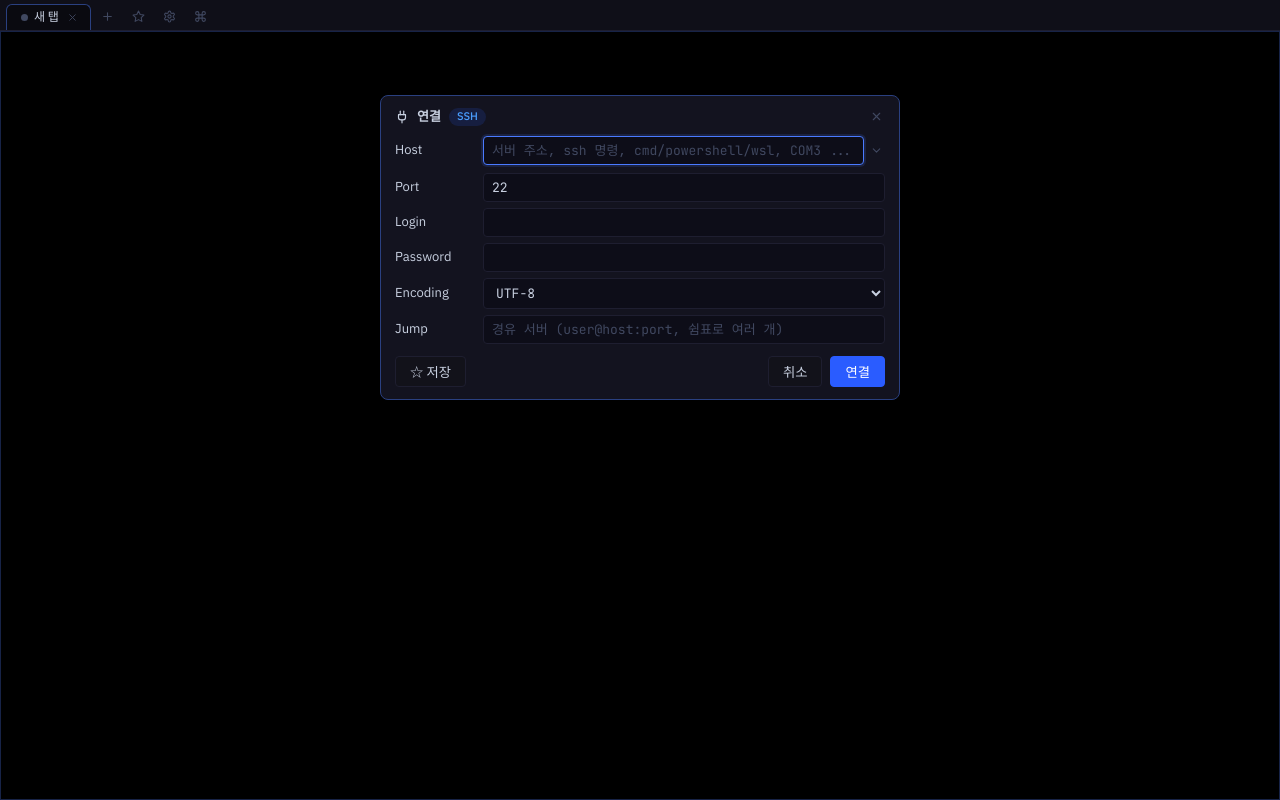
Test: 원격 파일 창 (RFV) › RFV-05: 여러 개(Ctrl+클릭) 다운로드 → 폴더 골라 저장
This screenshot has width=1280, height=800.
Type "srv" into the field labelled "Host" at (674, 150), box x1=483 y1=136 x2=864 y2=165
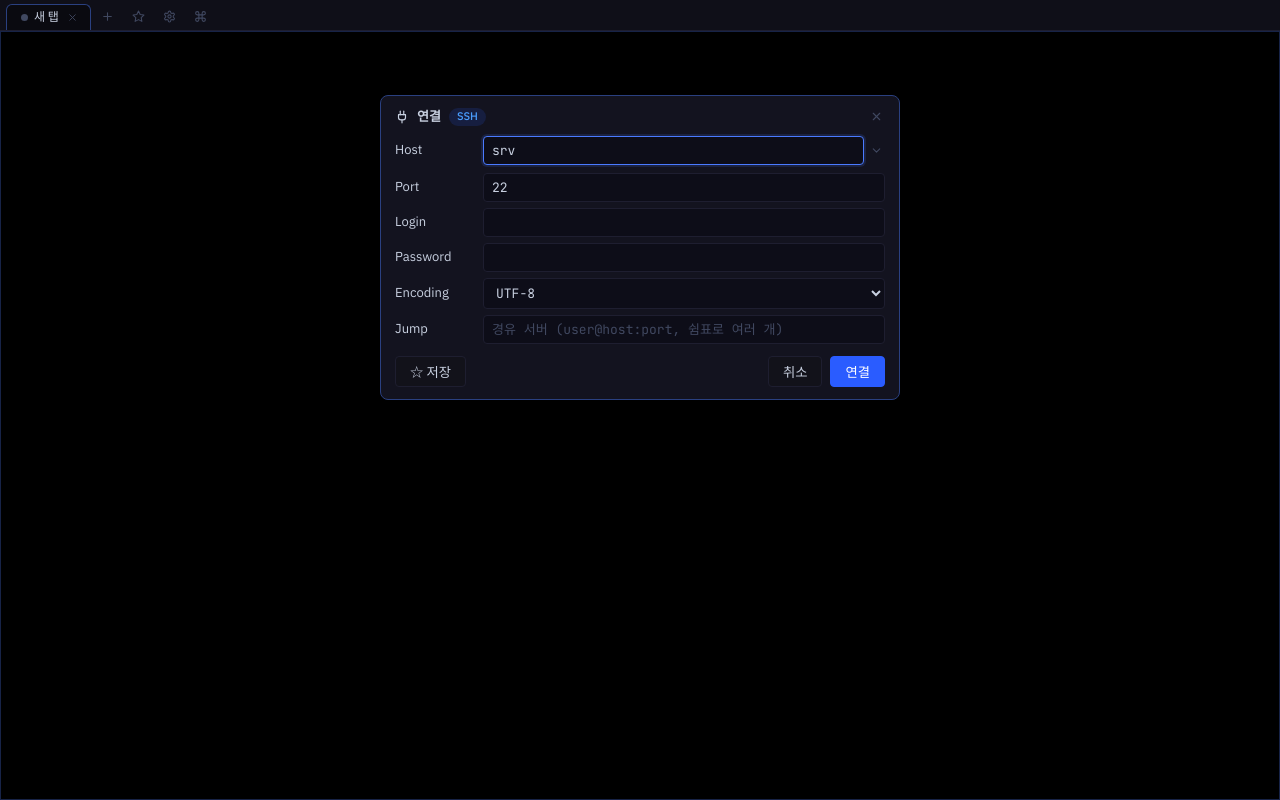
Submit the form labelled "Host", box x1=380 y1=95 x2=900 y2=400
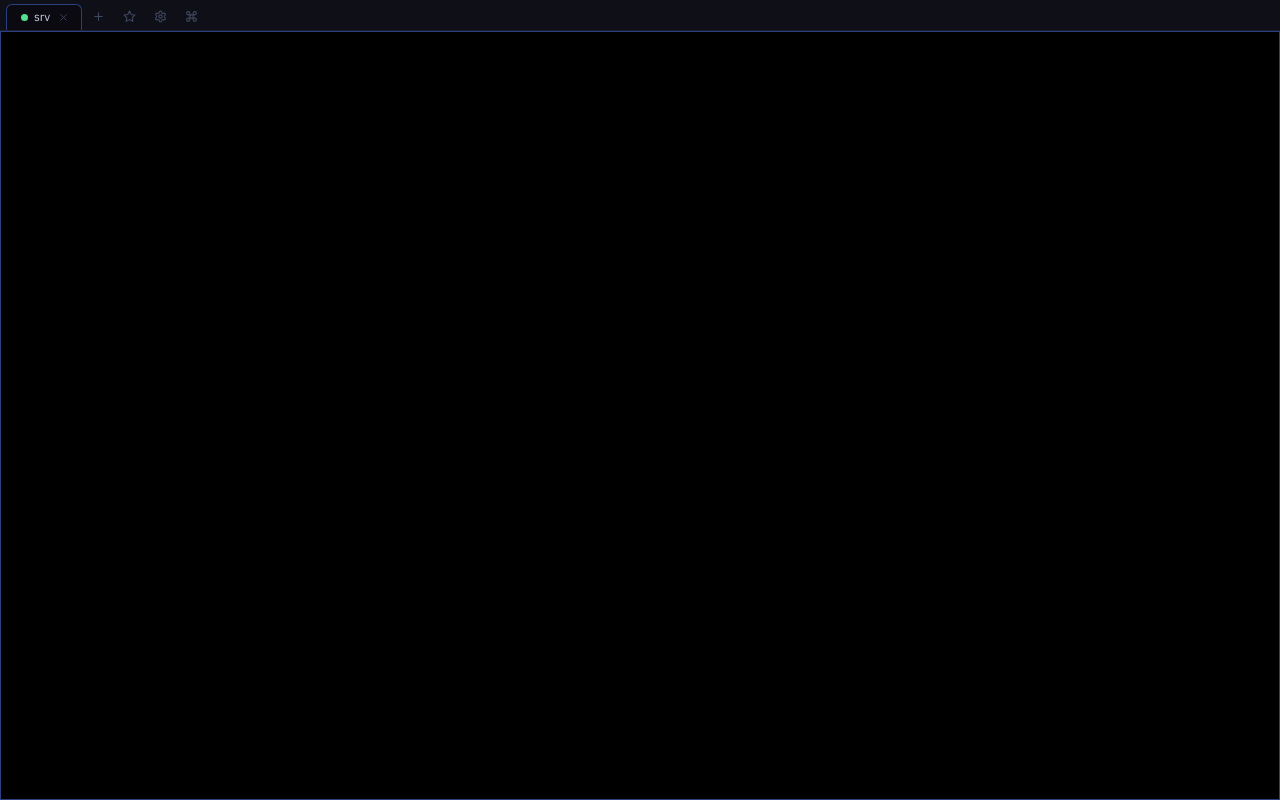
Expected: the label labelled "Host" is gone
Press F in the element showing "srv"
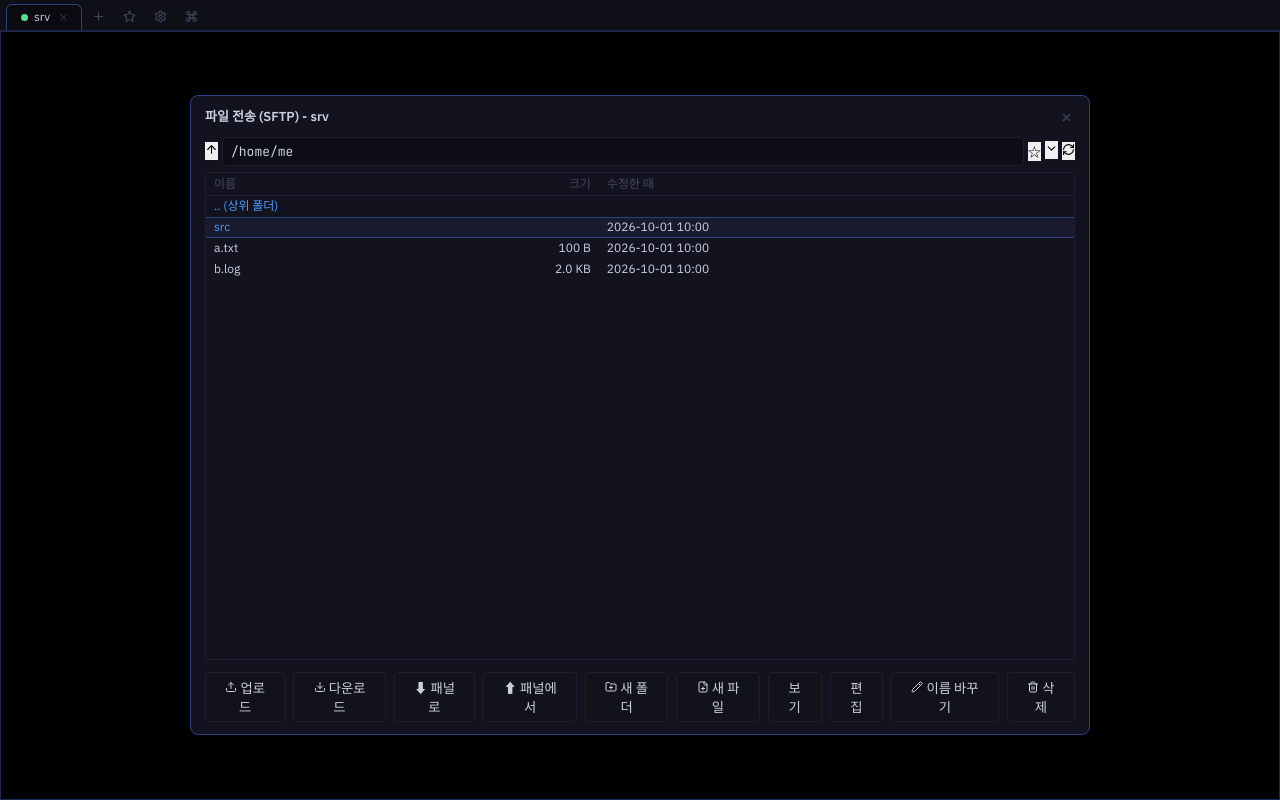
Press the mouse on the row "a.txt 100 B 2026-10-01 10:00" at (640, 248), box x1=206 y1=238 x2=1074 y2=259
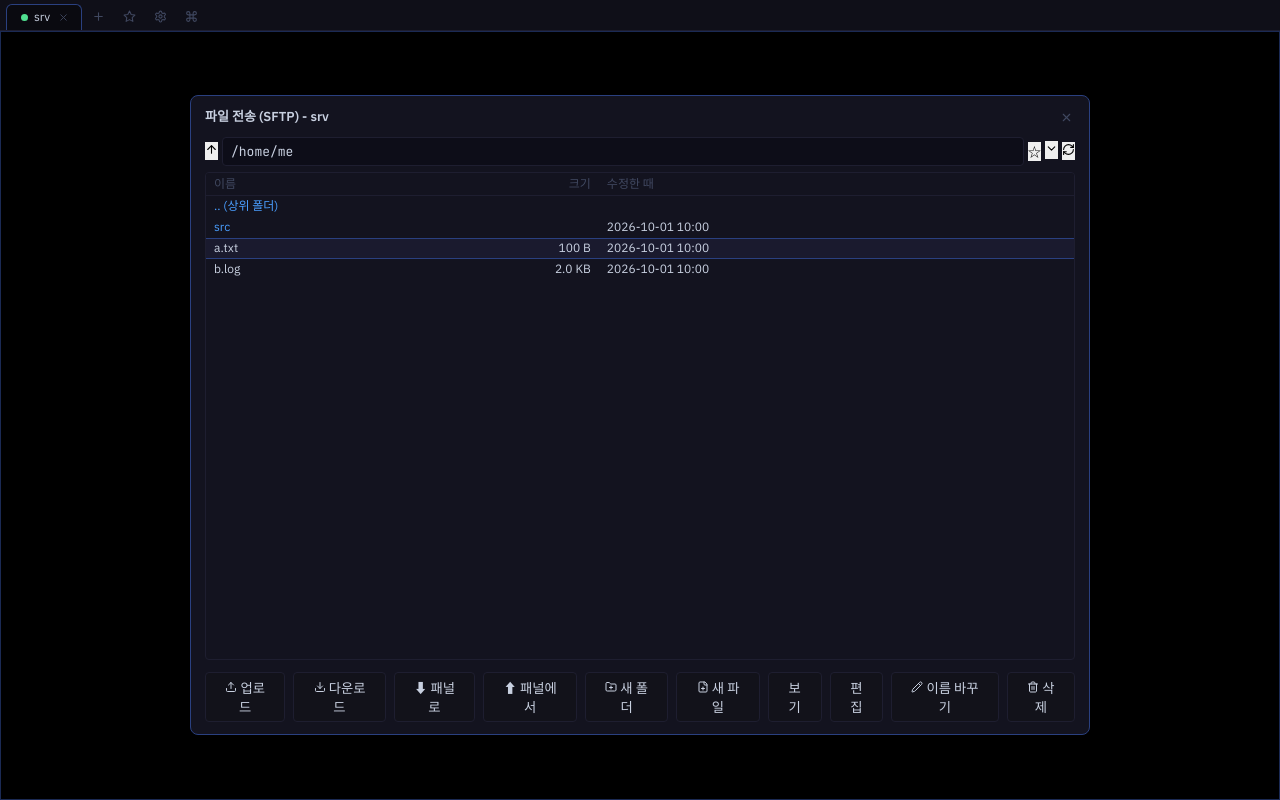
Press the mouse on the row "b.log 2.0 KB 2026-10-01 10:00" at (640, 269), box x1=206 y1=259 x2=1074 y2=280
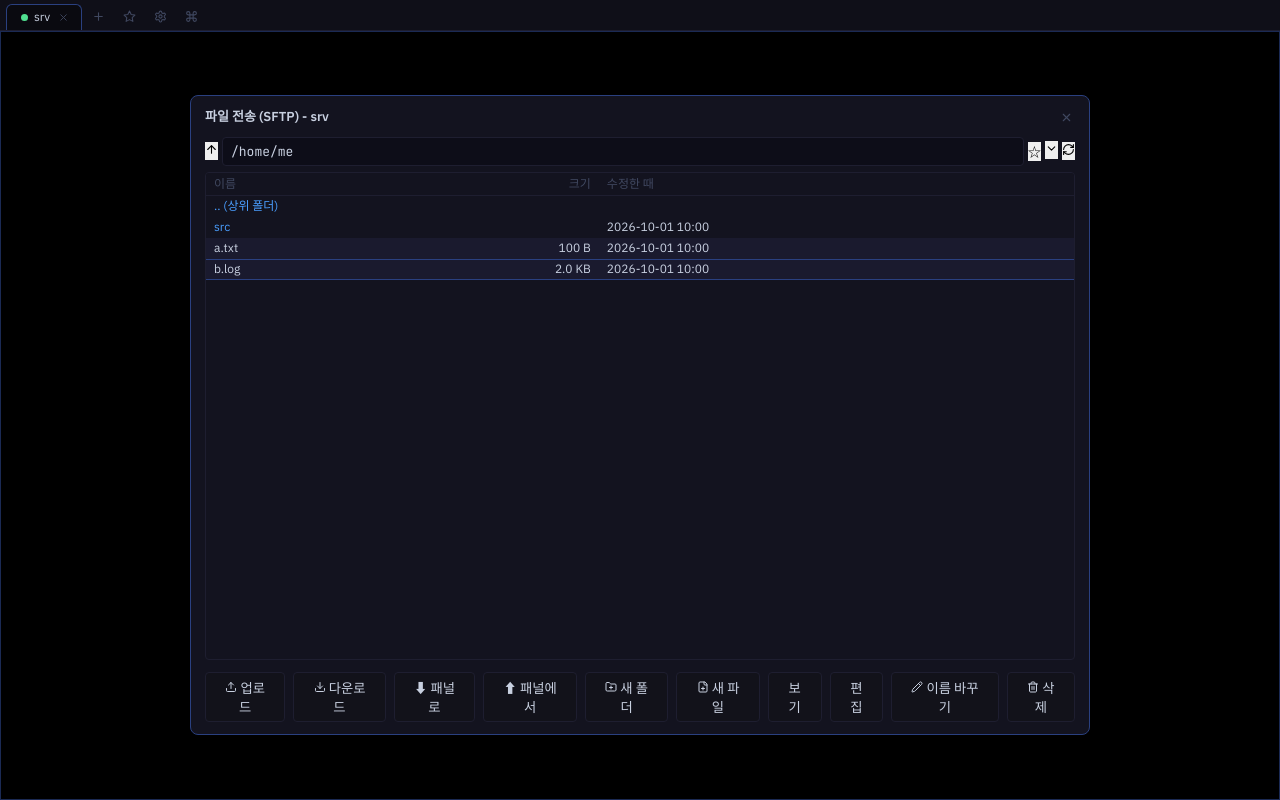
Click the button "다운로드" at (340, 697), box x1=293 y1=672 x2=386 y2=722
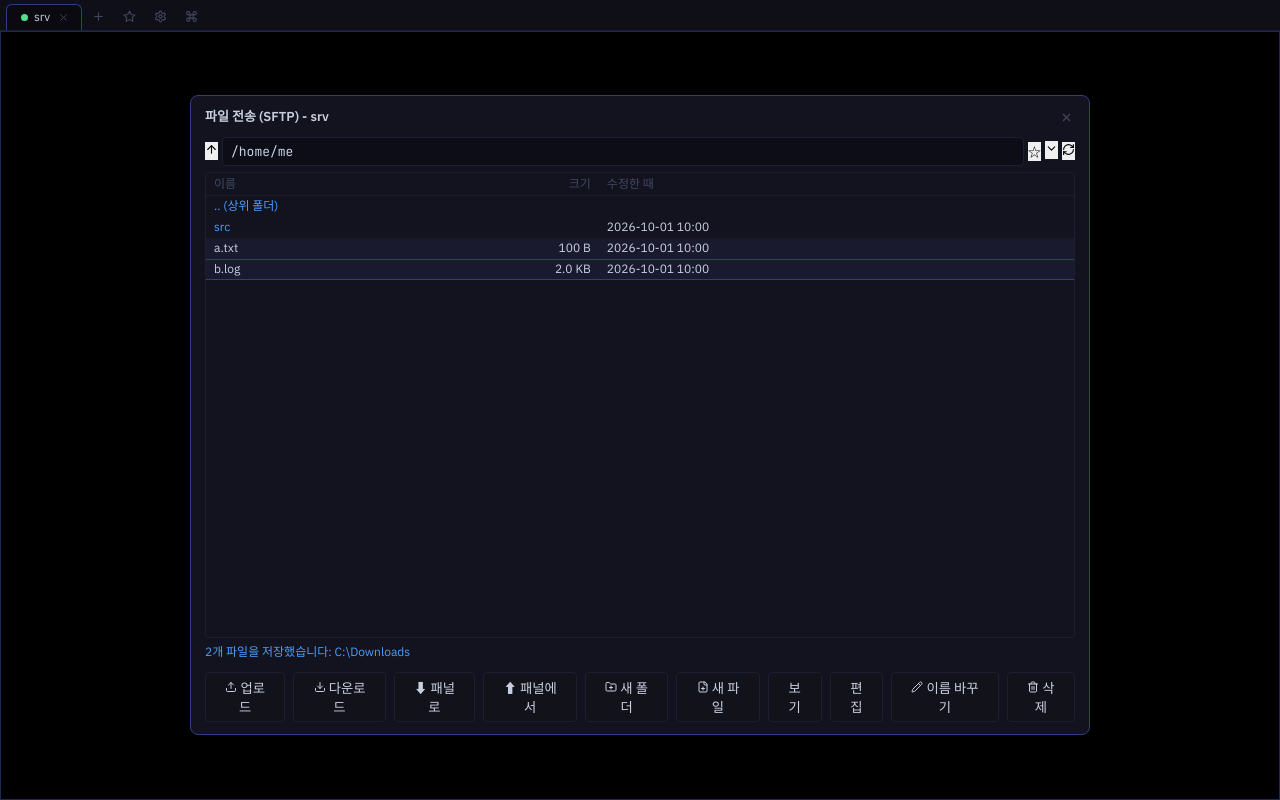
Expected: the message reads "2개 파일을 저장했습니다: C:\\Downloads", x1=205 y1=644 x2=410 y2=659
